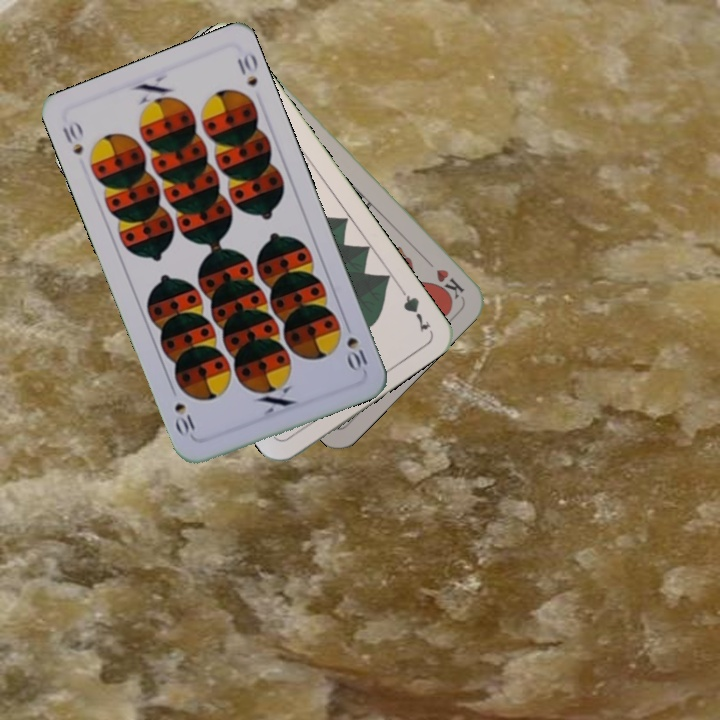G7: (393, 281, 433, 335)
HK: (418, 252, 467, 301)
S10: (340, 317, 371, 374), (58, 116, 87, 158)
